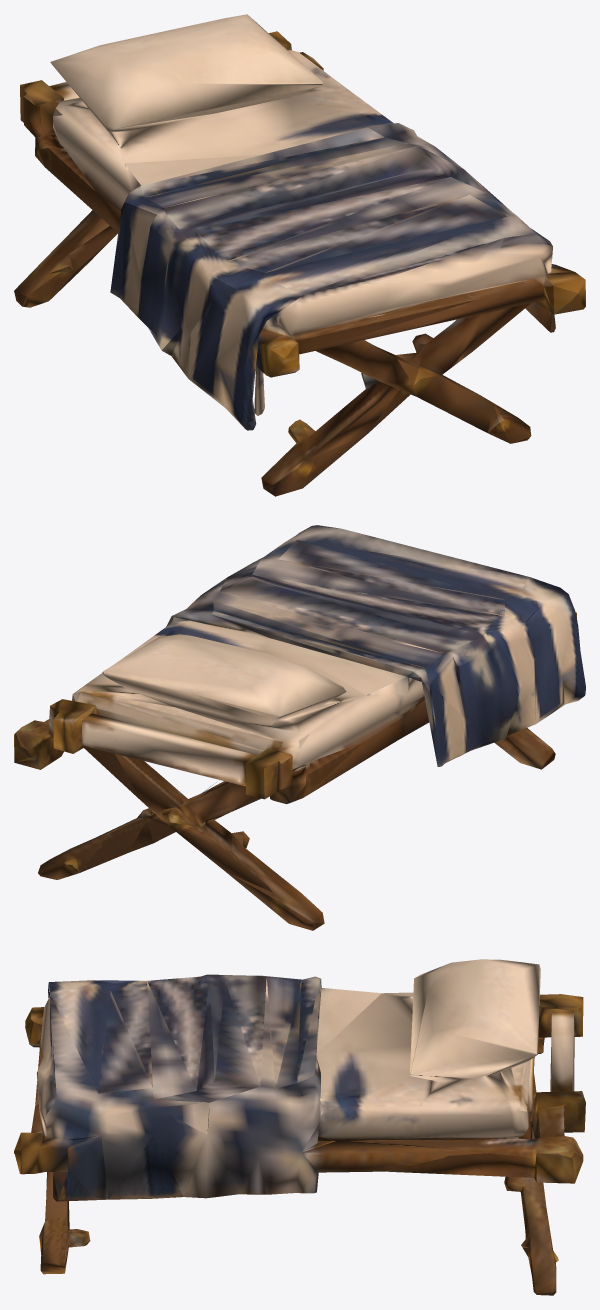
File: cot.glb
3 renders of one model, top to bottom at view 1: azimuth 30°, elevation 25°; view 2: azimuth 150°, elevation 25°; view 3: azimuth 270°, elevation 25°, orthographic. The views are drawn at different scales.
Visible parts, largest first — view 1: Mesh_0.003; view 2: Mesh_0.003; view 3: Mesh_0.003.
Boxes of the visible parts, x1,y1,x2,y2 form: Mesh_0.003: (14, 14, 585, 496); Mesh_0.003: (14, 525, 585, 930); Mesh_0.003: (14, 959, 585, 1295).
Size of the model in its own units: 2.16 by 1.51 by 3.32.
1 material, 1 textured.
